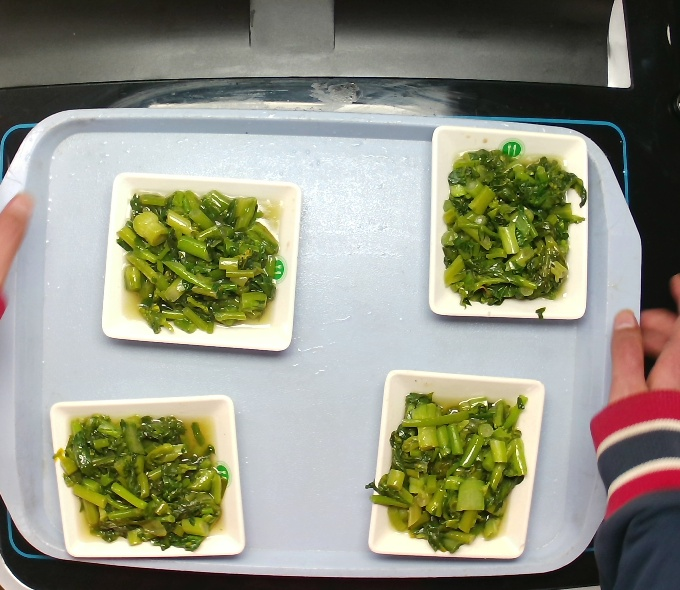wcq-YouCaiHua: (370, 378, 522, 555), (441, 135, 585, 315), (122, 181, 284, 340), (57, 406, 225, 555)
